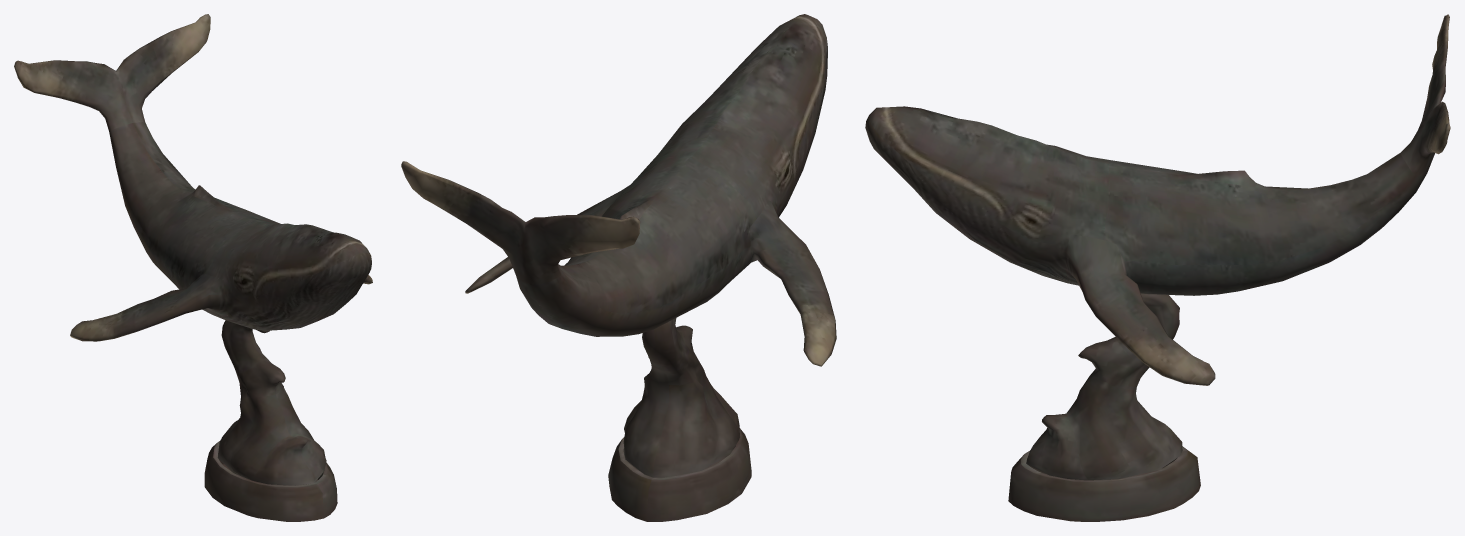
File: bronze_whale_statue.glb
The picture shows the model from 3 angles, left to right: view 1: azimuth 30°, elevation 25°; view 2: azimuth 150°, elevation 25°; view 3: azimuth 270°, elevation 25°; orthographic projection. The views are drawn at different scales.
Parts seen in each view (by area): view 1: bronze_whale_statue; view 2: bronze_whale_statue; view 3: bronze_whale_statue.
Boxes of the visible parts, x1,y1,x2,y2 form: bronze_whale_statue: (14, 14, 372, 521); bronze_whale_statue: (401, 14, 836, 521); bronze_whale_statue: (865, 14, 1450, 521).
Size of the model in its own units: 0.932 by 1.07 by 1.37.
Materials: 1 (1 with a texture image).
